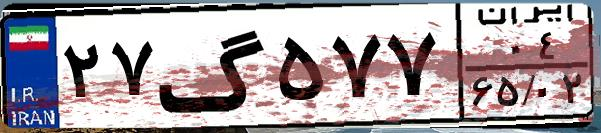0: (508, 27, 537, 80), (535, 70, 560, 125)
2: (57, 26, 110, 100), (560, 70, 590, 125)
4: (537, 27, 568, 80)
5: (270, 28, 330, 110), (495, 70, 520, 125)
6: (470, 70, 495, 125)
7: (385, 28, 445, 110), (330, 28, 385, 110), (110, 28, 156, 98)
گ: (156, 12, 270, 120)
